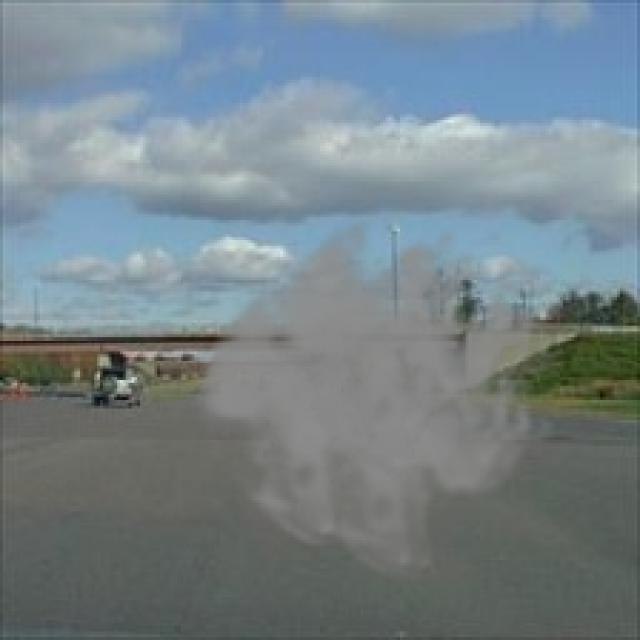smoke: (189, 205, 557, 586)
